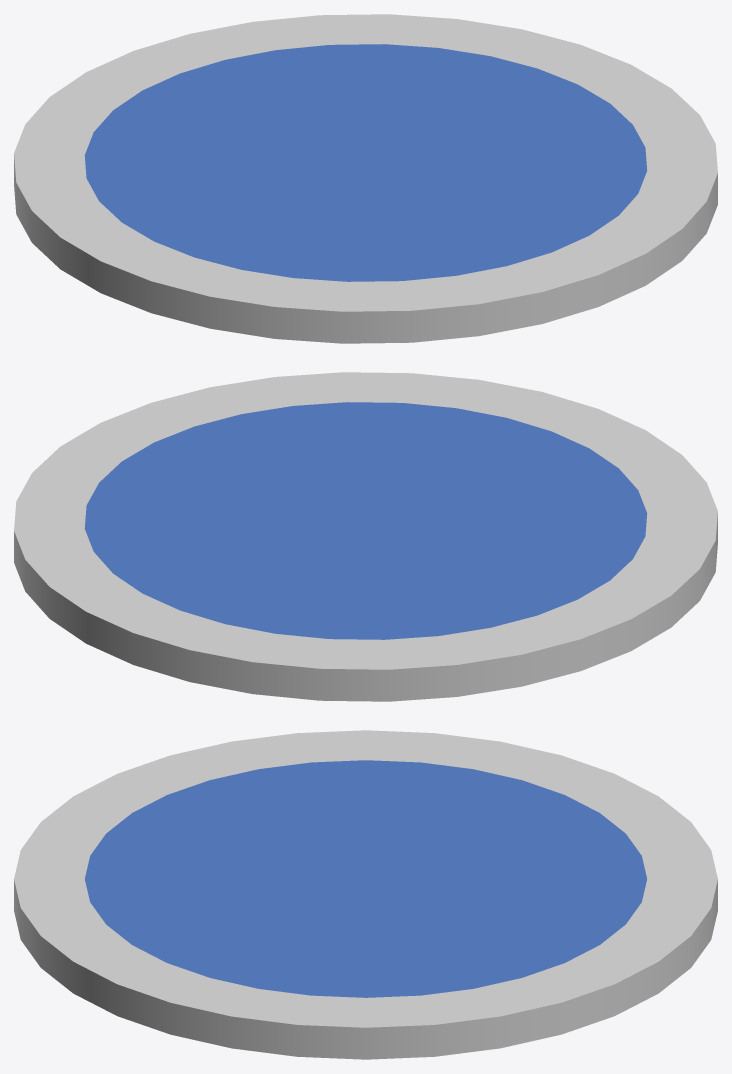
The model's file is Plate1.fbx.
3 renders of one model, top to bottom at view 1: azimuth 30°, elevation 25°; view 2: azimuth 150°, elevation 25°; view 3: azimuth 270°, elevation 25°, orthographic.
Visible parts, largest first — view 1: Cylinder; view 2: Cylinder; view 3: Cylinder.
Part boxes in pixels (x1,y1,x2,y2): Cylinder: (14,14,717,343); Cylinder: (14,372,717,701); Cylinder: (14,730,717,1059).
Bounding box in the file's own units: 100 × 100 × 5.
